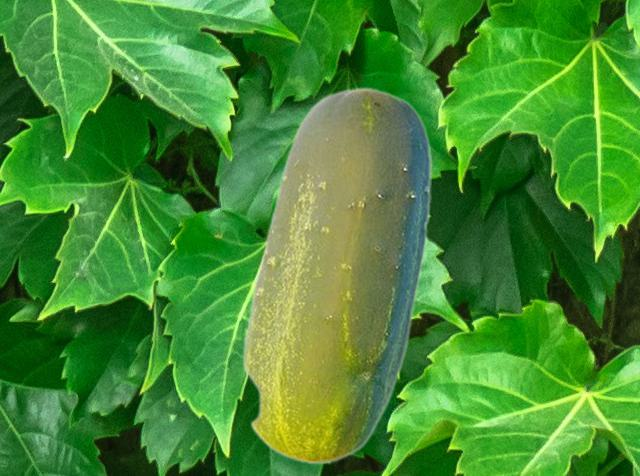cucumber: (241, 86, 430, 464)
